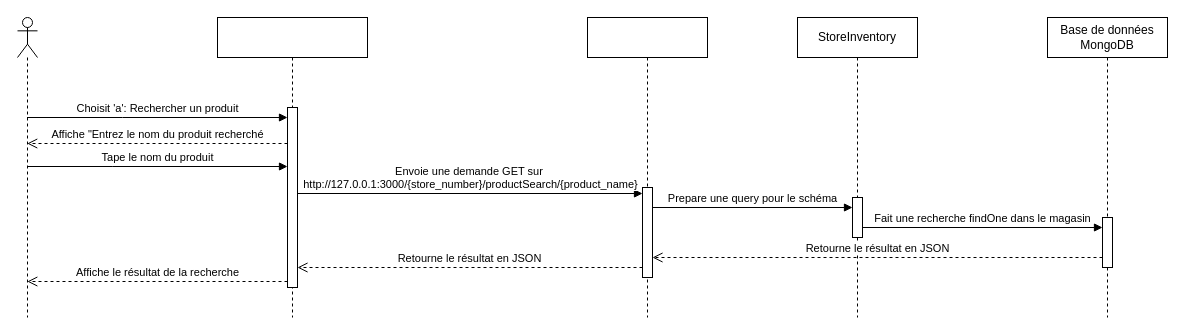
The diagram is 1185 pixels wide and 335 high, and some of its shapes have lost their labels. Here are the shapes that lost their labels. From the top down, the box of each, then its label:
(216, 16, 368, 318): Frontend CMD Python
(586, 16, 708, 318): Backend Express.js
